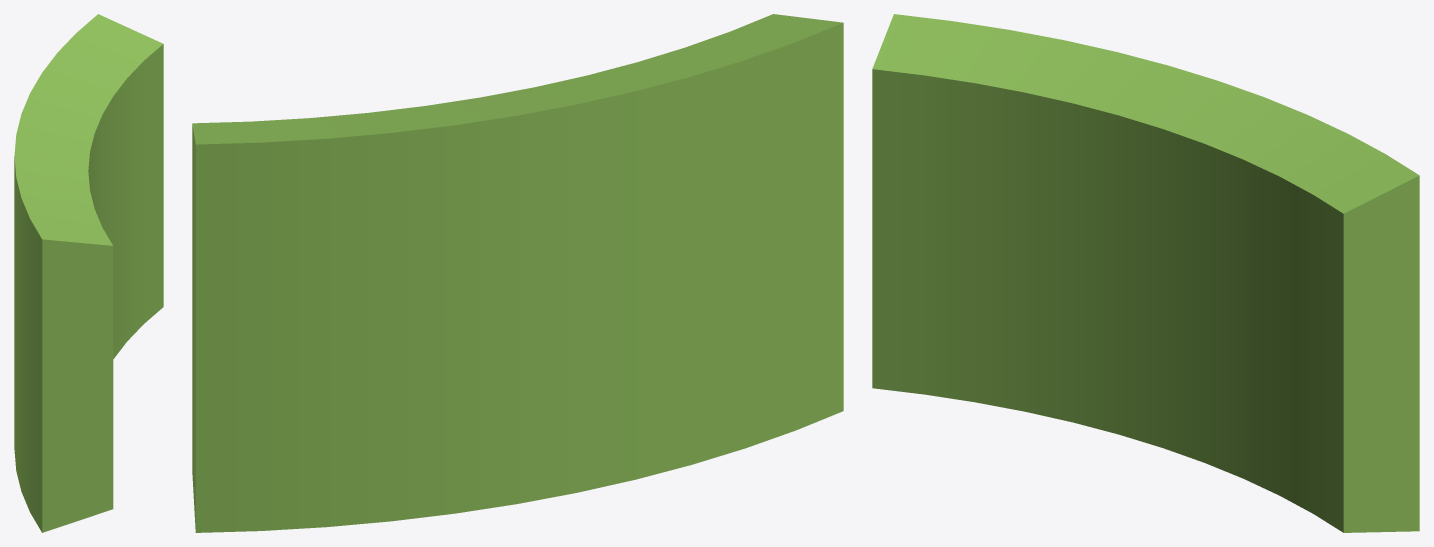
File: CircleBlock16.obj
The picture shows the model from 3 angles, left to right: view 1: azimuth 30°, elevation 25°; view 2: azimuth 150°, elevation 25°; view 3: azimuth 270°, elevation 25°; orthographic projection. The views are drawn at different scales.
Parts seen in each view (by area): view 1: CircleBlock16; view 2: CircleBlock16; view 3: CircleBlock16.
Boxes of the visible parts, box(x1,y1,x2,y2) form: CircleBlock16: box(14, 14, 163, 532); CircleBlock16: box(192, 14, 843, 532); CircleBlock16: box(872, 14, 1419, 532).
Size of the model in its own units: 5.62 by 5.14 by 7.16.
